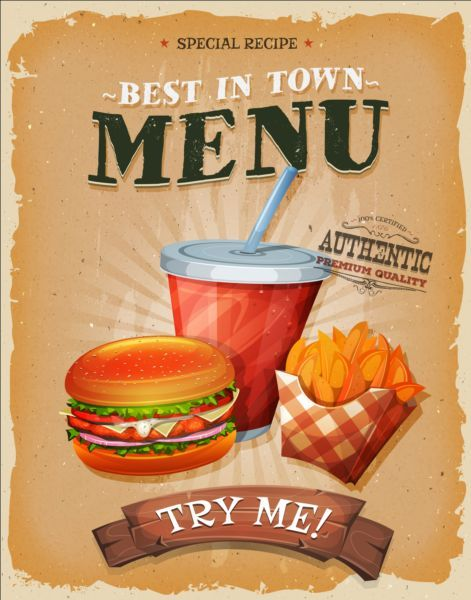Headline: (89, 74, 400, 184)
Product: (66, 243, 400, 481)
